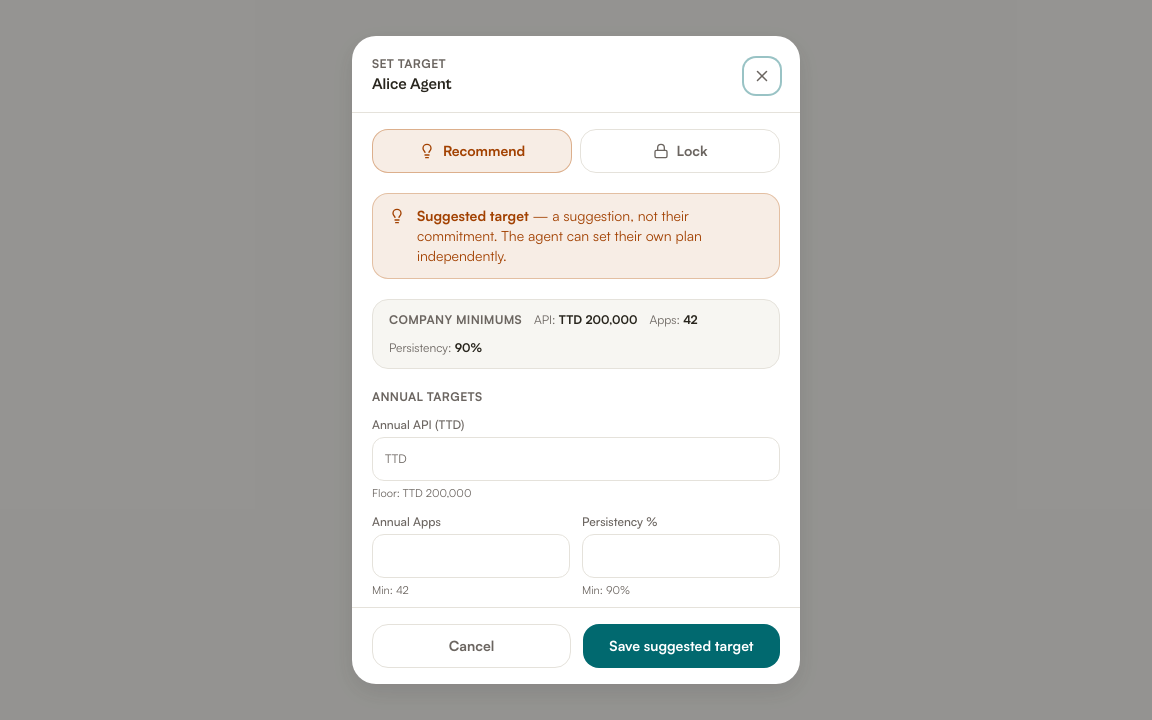
RecommendLockDrawer — lock mode › switches to lock mode when Lock button is clicked
The image size is (1152, 720).
Click the button "Lock" at (680, 151), box top-left (580, 129), bottom-right (780, 173)
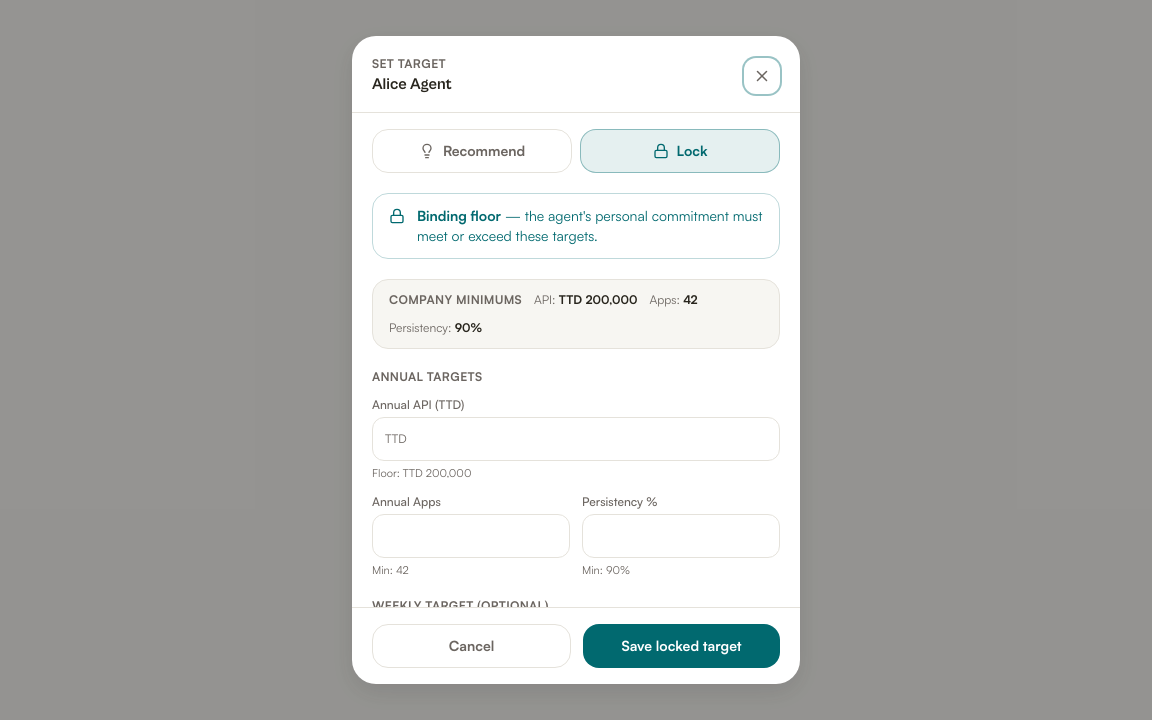
Expected: the text "Binding floor" is shown, top-left (417, 207), bottom-right (501, 224)
